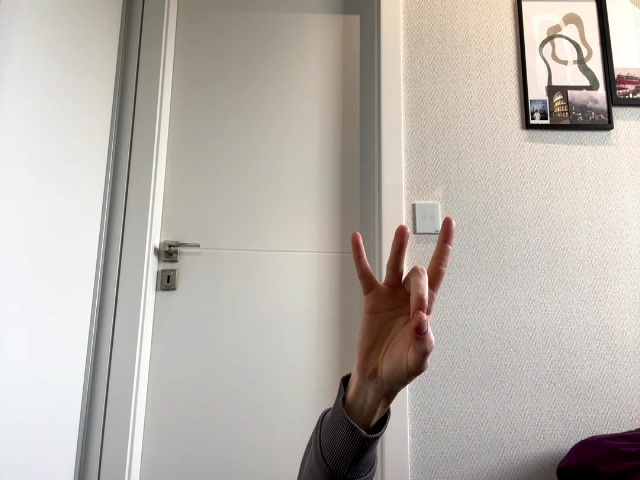G: (353, 217, 457, 382)
